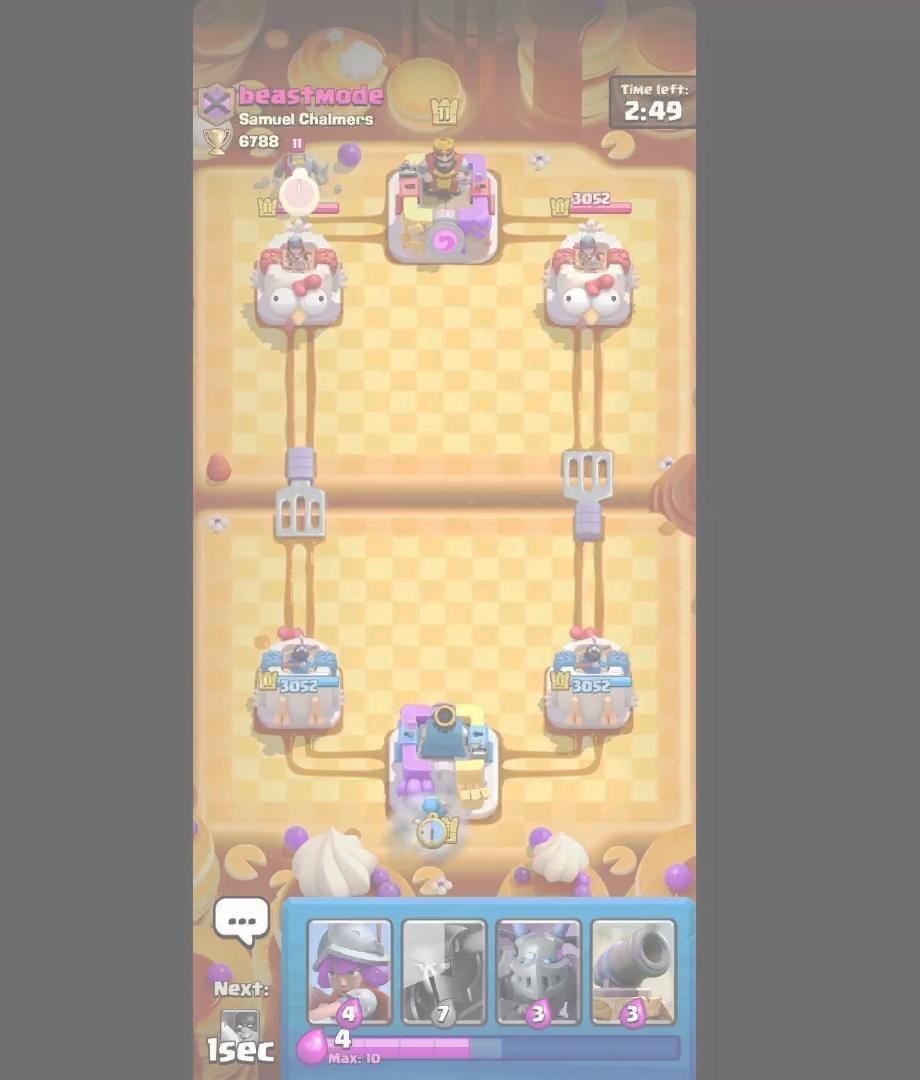Knight: (266, 137, 339, 202)
